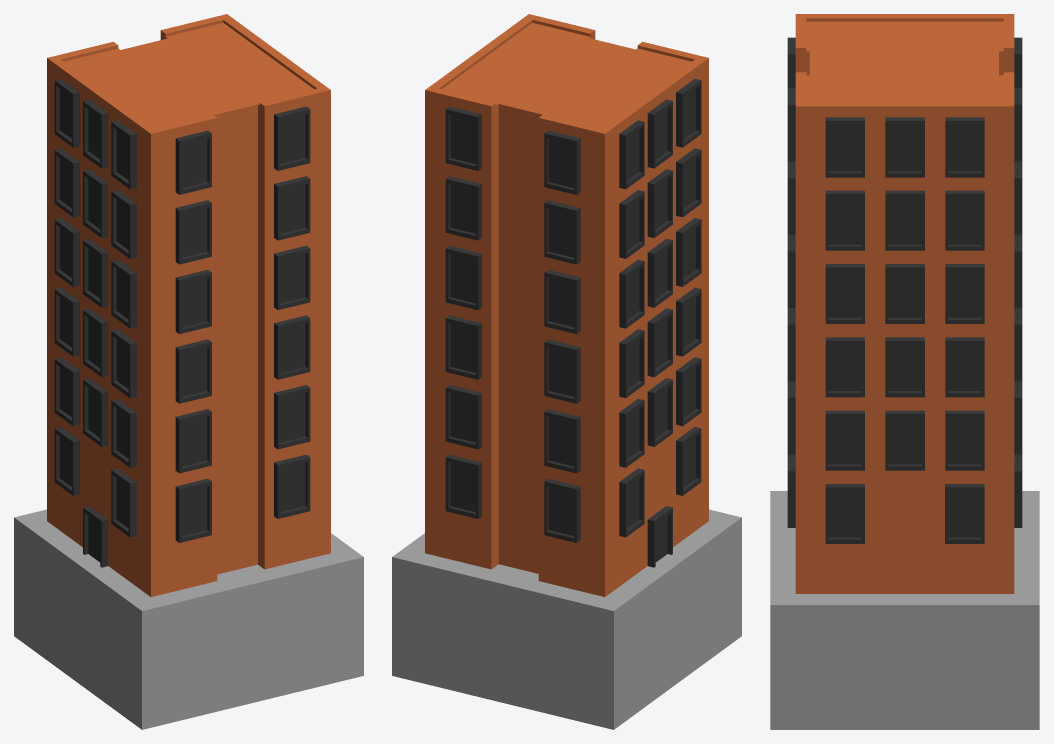
Rendered from Skyscraper2.fbx.
3 views of the same model, side by side, from view 1: azimuth 30°, elevation 25°; view 2: azimuth 150°, elevation 25°; view 3: azimuth 270°, elevation 25° (orthographic). The views are drawn at different scales.
Parts seen in each view (by area): view 1: Skyscraper1_pCube15, pCube13, pCube19 (×2), pCube21 (×2), pCube46 (×2), pCube50 (×2), pCube48 (×2), pCube17 (×2), pCube47 (×2), pCube18 (×2), pCube22 (×2), pCube49 (×2) (+8 smaller); view 2: Skyscraper1_pCube15, pCube13, pCube18 (×2), pCube46 (×2), pCube47 (×2), pCube49 (×2), pCube50 (×2), pCube22 (×2), pCube48 (×2), pCube21 (×2), pCube16 (×2), pCube17 (×2) (+8 smaller); view 3: Skyscraper1_pCube15, pCube13, pCube22 (×3), pCube46 (×3), pCube50 (×2), pCube18 (×2), pCube21 (×2), pCube47 (×2), pCube49 (×2), pCube19 (×2), pCube20 (×2), pCube16 (×2) (+7 smaller).
Boxes of the visible parts, bbox=[...] form: Skyscraper1_pCube15: bbox=[47, 14, 330, 596]; pCube13: bbox=[14, 509, 363, 729]; pCube19 (×2): bbox=[54, 287, 211, 403]; pCube21 (×2): bbox=[54, 148, 211, 264]; pCube46 (×2): bbox=[111, 106, 310, 189]; pCube50 (×2): bbox=[111, 385, 310, 467]; pCube48 (×2): bbox=[111, 245, 310, 328]; pCube17 (×2): bbox=[111, 454, 310, 537]; pCube47 (×2): bbox=[111, 176, 310, 258]; pCube18 (×2): bbox=[54, 357, 211, 473]; pCube22 (×2): bbox=[54, 79, 211, 194]; pCube49 (×2): bbox=[111, 315, 310, 398]; Skyscraper1_pCube15: bbox=[425, 14, 708, 596]; pCube13: bbox=[392, 509, 741, 729]; pCube18 (×2): bbox=[445, 385, 644, 467]; pCube46 (×2): bbox=[544, 78, 701, 194]; pCube47 (×2): bbox=[544, 148, 701, 264]; pCube49 (×2): bbox=[544, 287, 701, 403]; pCube50 (×2): bbox=[544, 357, 701, 473]; pCube22 (×2): bbox=[445, 106, 644, 189]; pCube48 (×2): bbox=[544, 218, 701, 334]; pCube21 (×2): bbox=[445, 176, 644, 258]; pCube16 (×2): bbox=[445, 454, 644, 537]; pCube17 (×2): bbox=[544, 427, 701, 542]; Skyscraper1_pCube15: bbox=[795, 14, 1014, 593]; pCube13: bbox=[770, 491, 1039, 729]; pCube22 (×3): bbox=[787, 37, 1022, 177]; pCube46 (×3): bbox=[787, 37, 1022, 177]; pCube50 (×2): bbox=[787, 381, 984, 470]; pCube18 (×2): bbox=[825, 381, 1022, 470]; pCube21 (×2): bbox=[825, 161, 1022, 250]; pCube47 (×2): bbox=[787, 161, 984, 250]; pCube49 (×2): bbox=[787, 308, 984, 397]; pCube19 (×2): bbox=[825, 308, 1022, 397]; pCube20 (×2): bbox=[825, 234, 1022, 323]; pCube16 (×2): bbox=[825, 454, 1022, 543].
Bounding box in the file's own units: 1 × 2.51 × 1.
